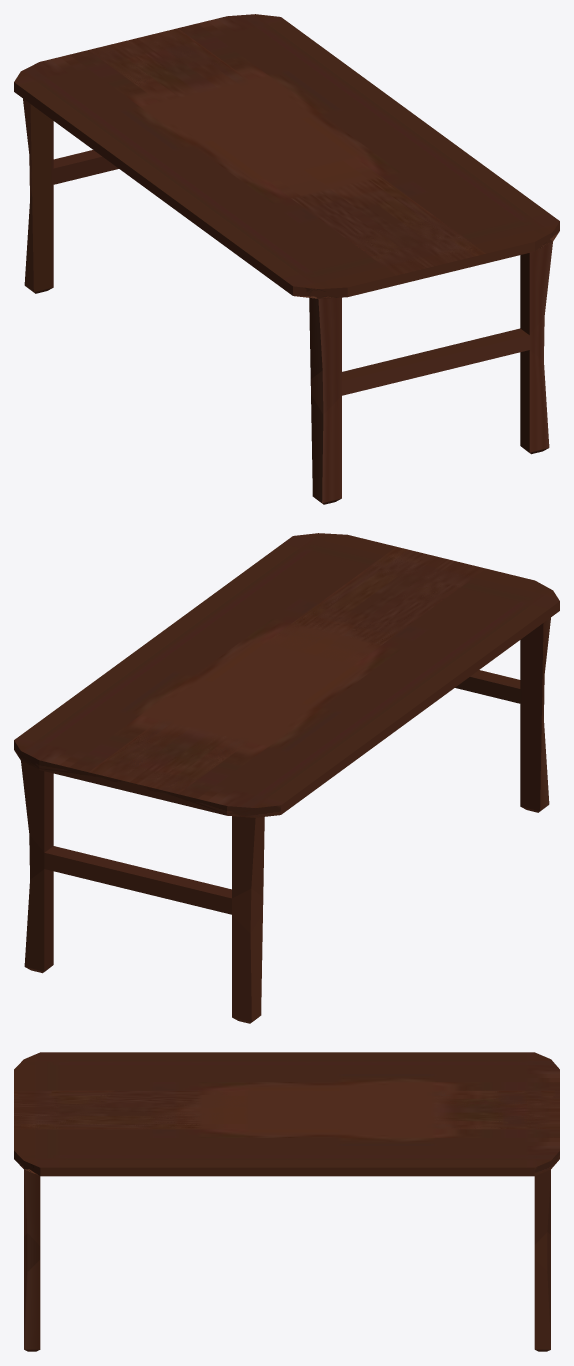
File: DineTable.fbx
The picture shows the model from 3 angles, top to bottom: view 1: azimuth 30°, elevation 25°; view 2: azimuth 150°, elevation 25°; view 3: azimuth 270°, elevation 25°; orthographic projection. The views are drawn at different scales.
Visible parts, largest first — view 1: DineTable; view 2: DineTable; view 3: DineTable.
Part boxes in pixels (left/top/right/bottom): DineTable: left=14, top=14, right=559, bottom=504; DineTable: left=14, top=533, right=559, bottom=1023; DineTable: left=14, top=1052, right=559, bottom=1351.
Size of the model in its own units: 598 by 469 by 1195.
1 material, 1 textured.
